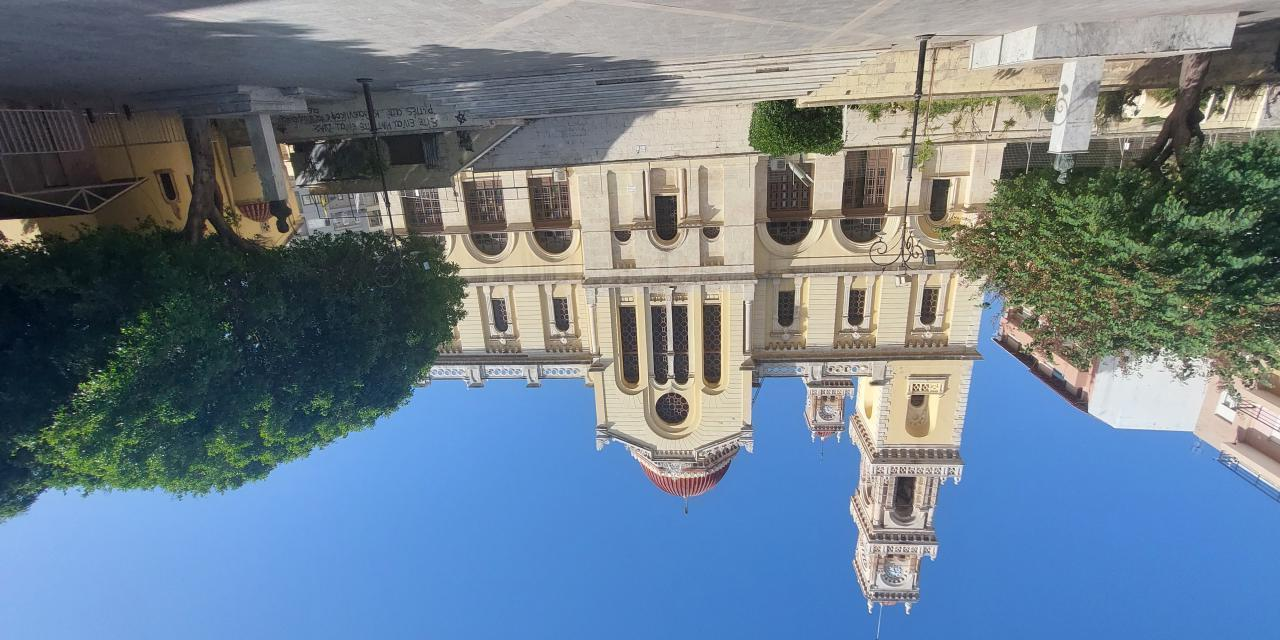Agios Minas: (372, 172, 1015, 620)
